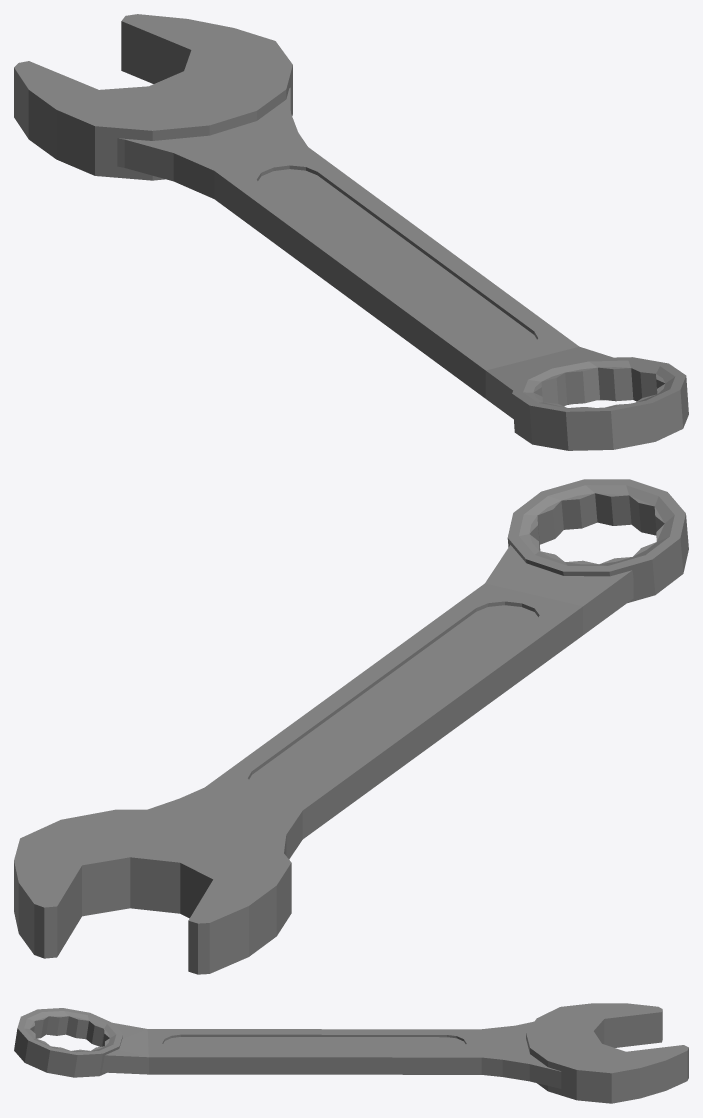
Rendered from Wrench_short.glb.
3 views of the same model, one above another, from view 1: azimuth 30°, elevation 25°; view 2: azimuth 150°, elevation 25°; view 3: azimuth 270°, elevation 25° (orthographic). The views are drawn at different scales.
Parts seen in each view (by area): view 1: Wrench; view 2: Wrench; view 3: Wrench.
Part boxes in pixels (x1,y1,x2,y2): Wrench: [14, 14, 688, 450]; Wrench: [14, 479, 688, 974]; Wrench: [14, 1003, 688, 1103].
Size of the model in its own units: 0.0526 by 0.0151 by 0.2143.
1 material, 1 textured.
